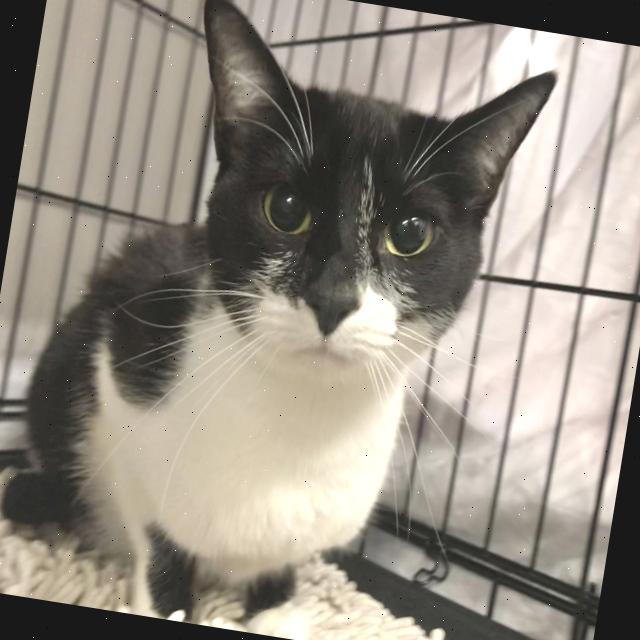american_shorthair_cat: (141, 0, 570, 427)
